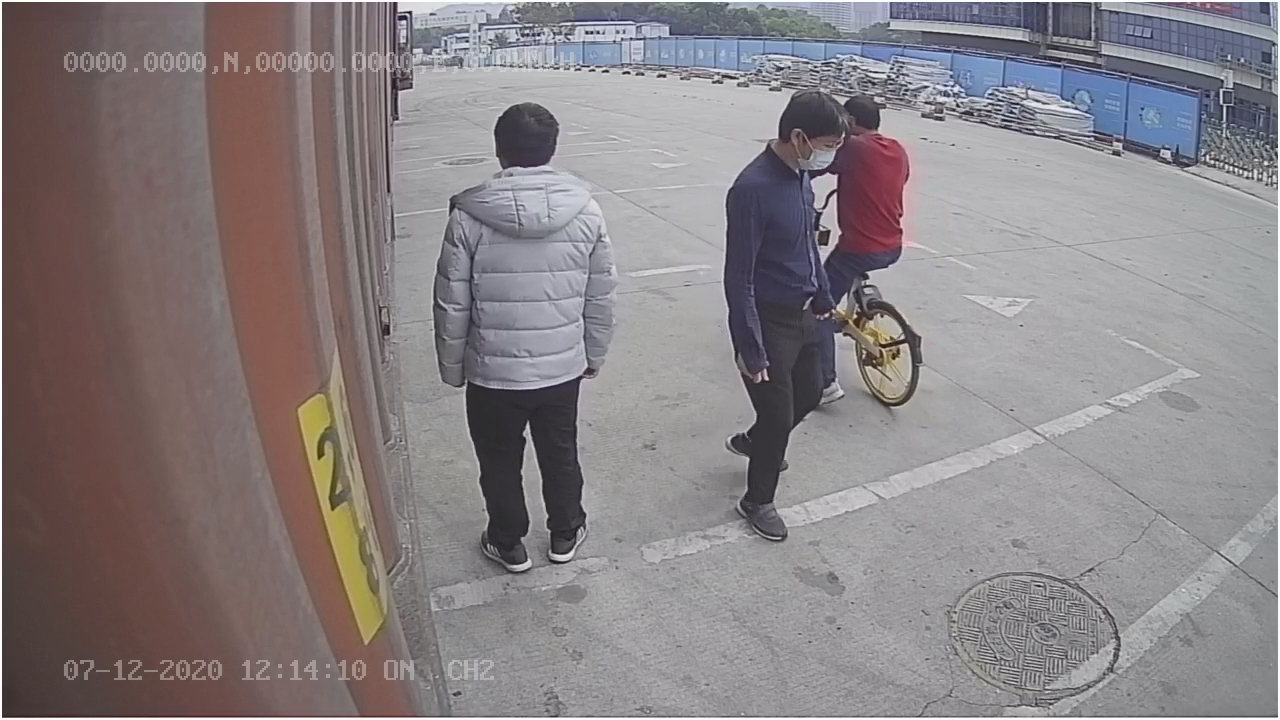person: (433, 97, 621, 572)
